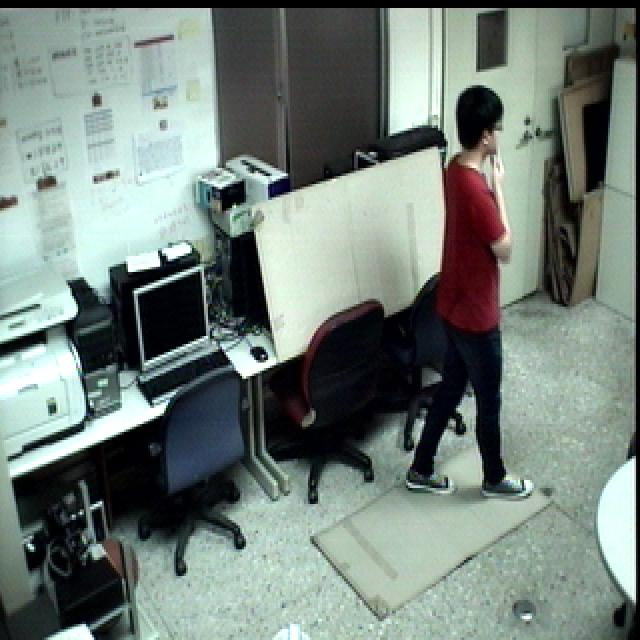stand: (394, 78, 534, 511)
